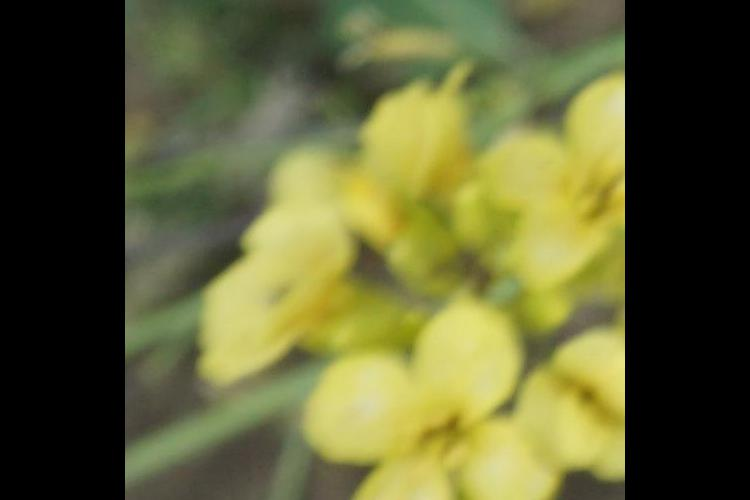yellow: (320, 322, 532, 500), (347, 86, 513, 291), (197, 167, 350, 366), (491, 70, 620, 298), (526, 315, 624, 500)
